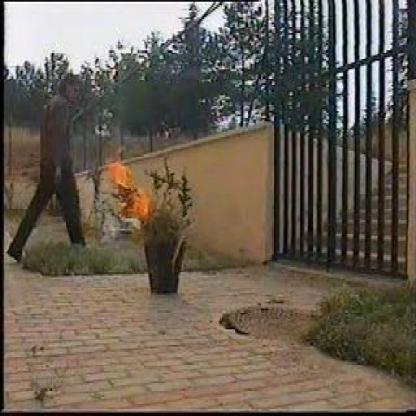foggia-v2-map80-epoch100 - v1 4323: (111, 160, 157, 212)
